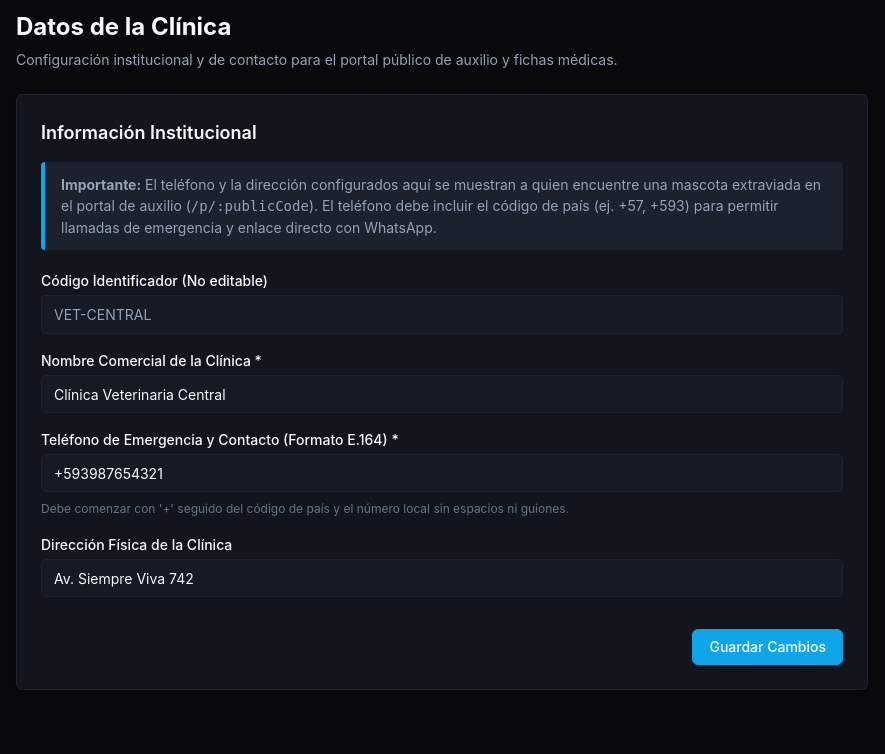
Scenario: UI Integration: Pantalla de Datos de la Clínica (ClinicManagementScreen) › despliega los errores de la API en español ante fallos en la actualización
Replace the text in the field labelled "Teléfono de Emergencia y Contacto (Formato E.164) *" with "+573009999999" at (442, 473), box x1=41 y1=454 x2=843 y2=492
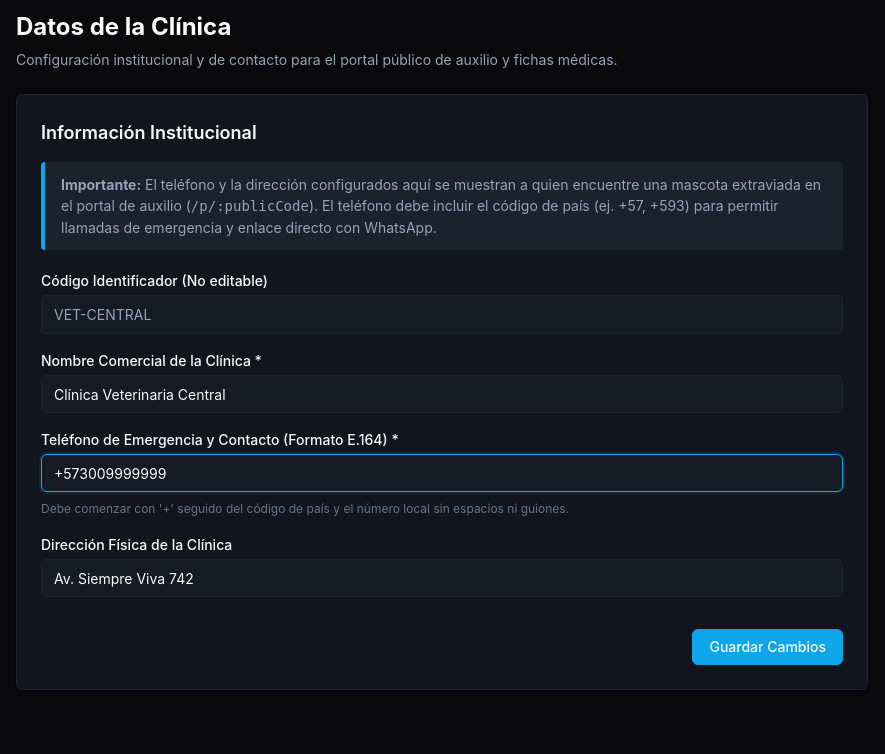
Click the button "Guardar Cambios" at (768, 647), box x1=692 y1=629 x2=843 y2=665
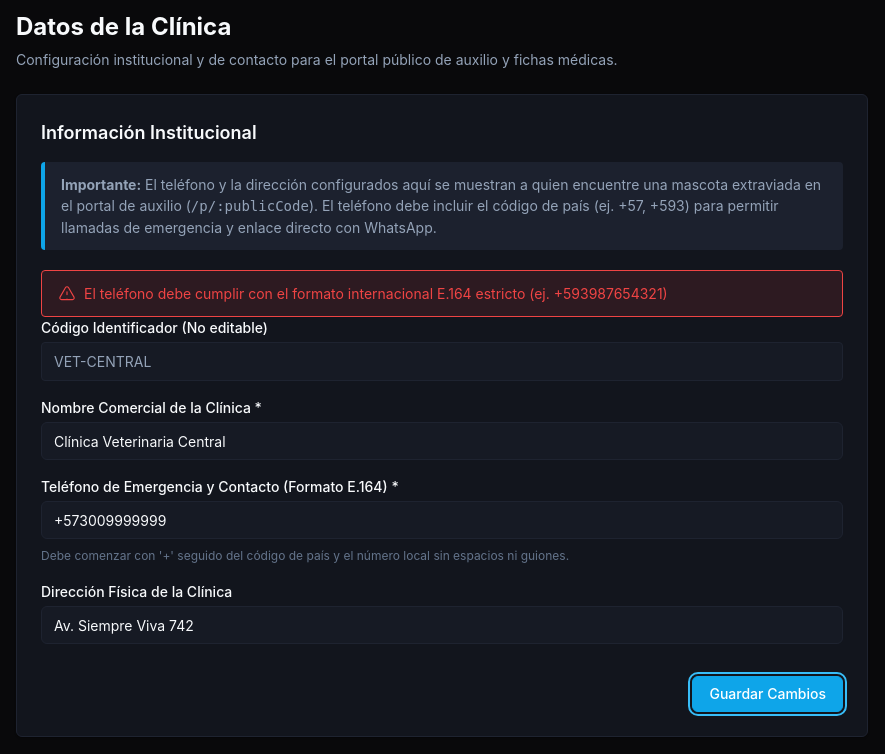
Expected: the message shows "El teléfono debe cumplir con el formato internacional E.164", x1=84 y1=285 x2=668 y2=302
